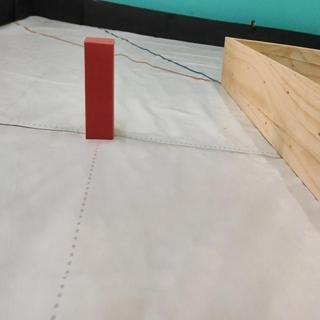redbox: (84, 35, 114, 139)
